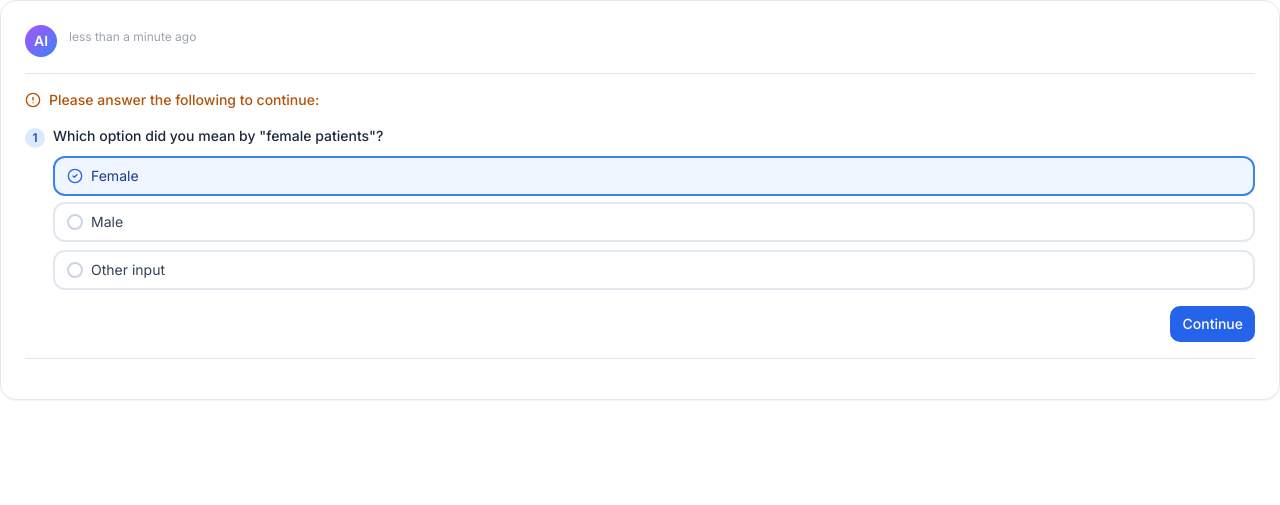
Scenario: AssistantMessage clarification UI › keeps structured option payloads out of the custom input textbox
Later steps or results of the test are not shown.
Click the button "Female".
click(115, 176)  # box [53,156,1255,196]
Check: the field with placeholder "Describe what you meant" is not shown
Click the button "Other input".
click(128, 270)  # box [53,250,1255,290]
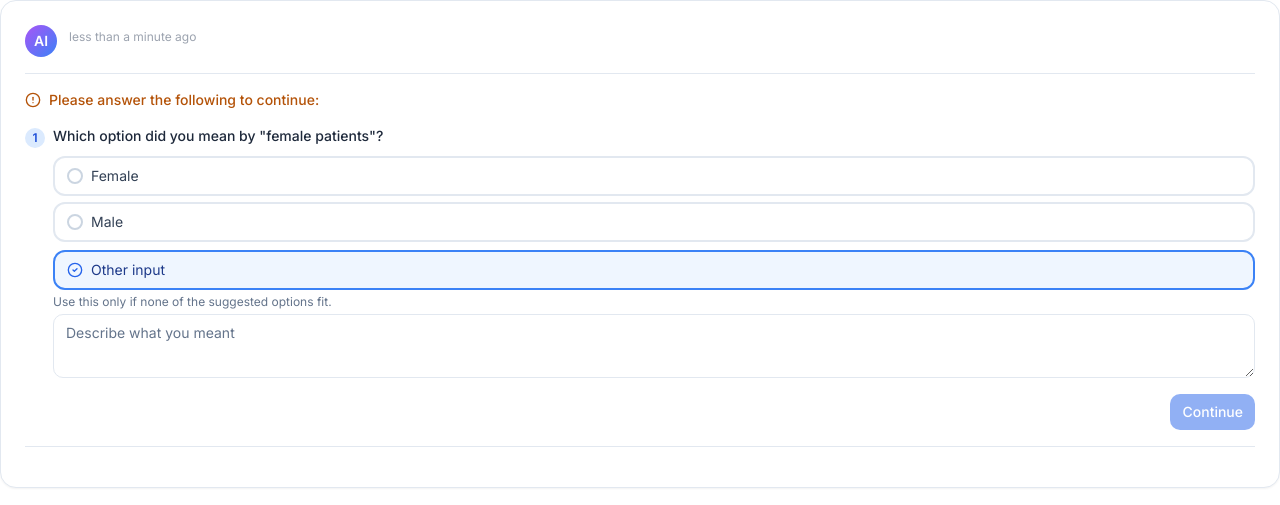
Check: the text box with placeholder "Describe what you meant" is empty, box [53,314,1255,378]
